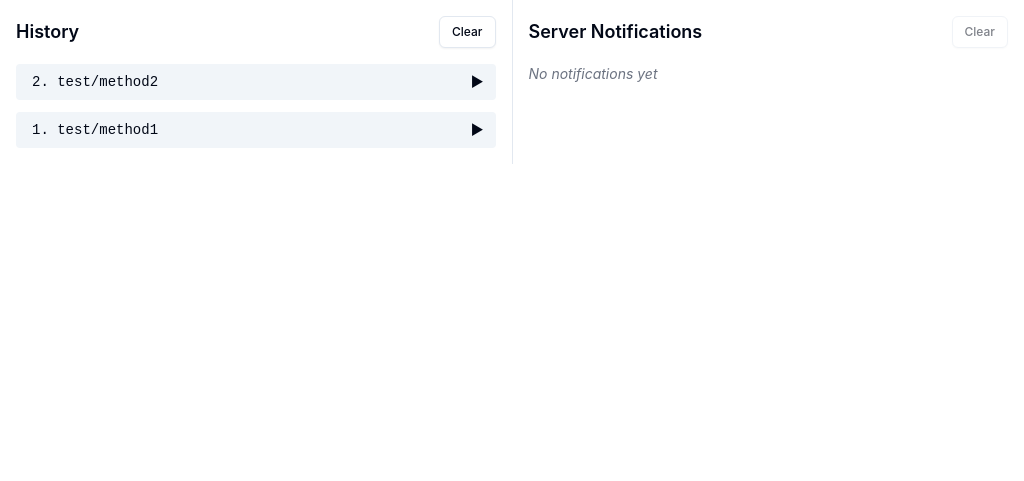
HistoryAndNotifications › expands and collapses request items when clicked
The image size is (1024, 481).
Expected: the text "▶" is shown 2 times, [471, 72, 484, 92]; [471, 120, 484, 140]
Expected: the text "Request:" is not shown
Note: Click to expand
Click the text "2. test/method2".
click(95, 82)  # box [32, 72, 158, 92]
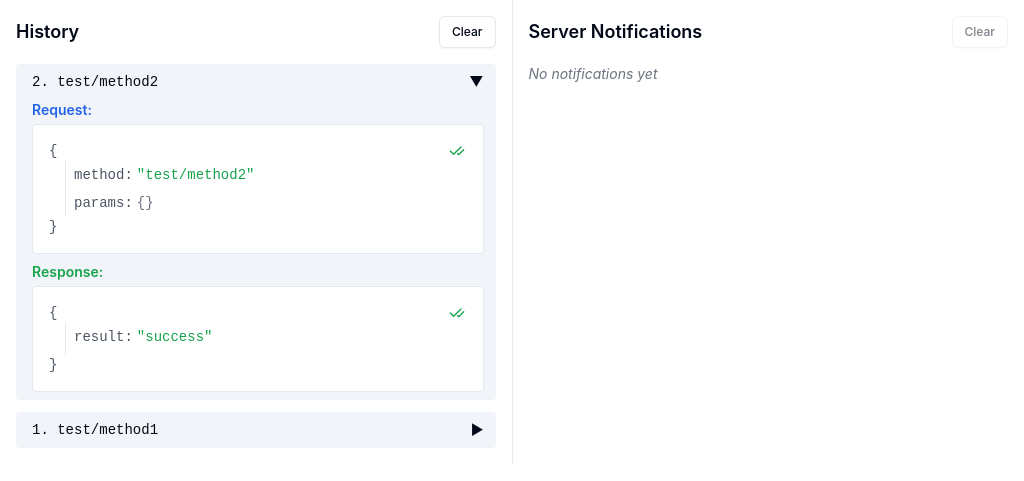
Now the text "▼" is shown, box [469, 72, 484, 92]
Now the text "Request:" is shown, box [32, 100, 92, 120]
Now the text "Response:" is shown, box [32, 262, 103, 282]
